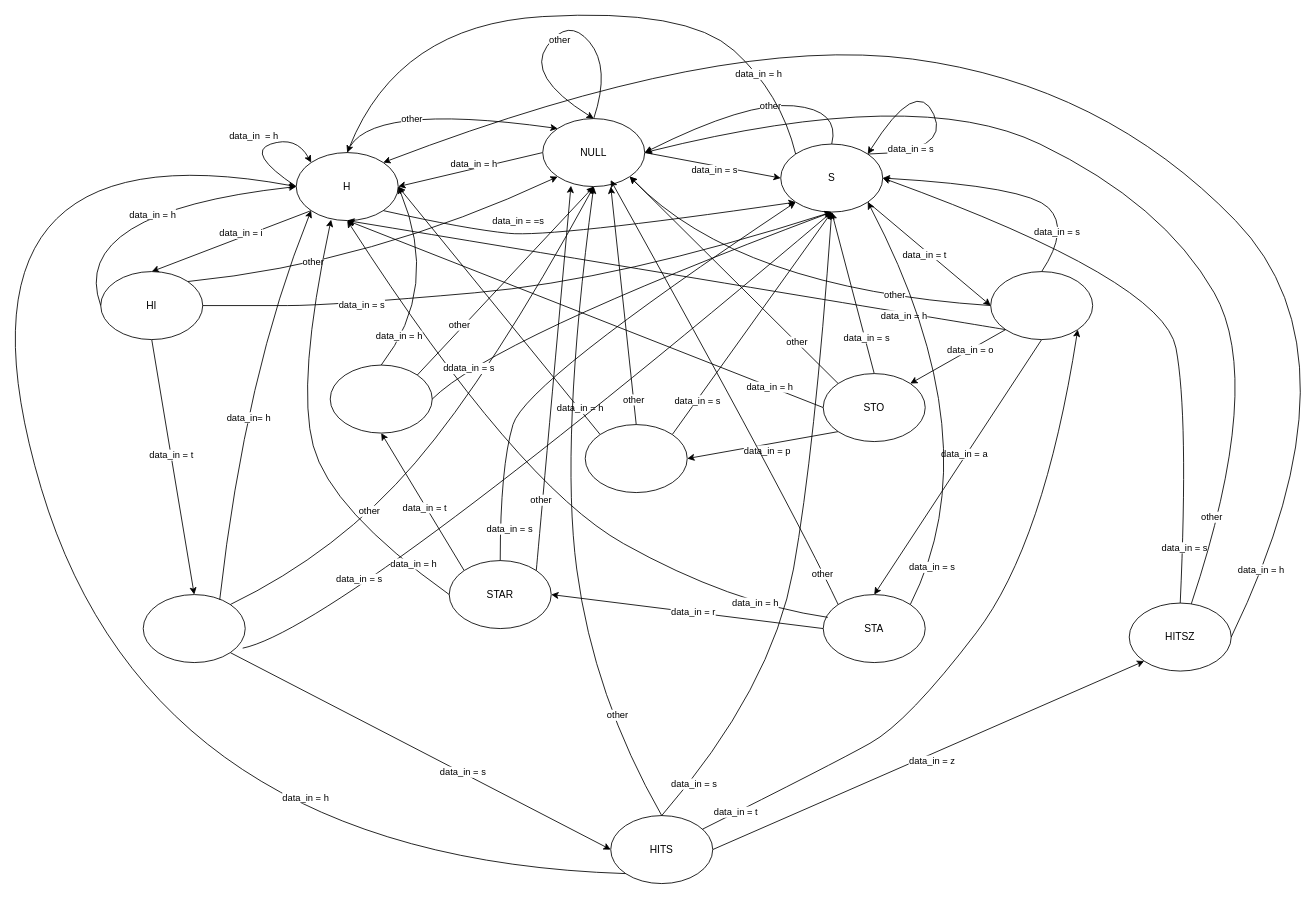
Image size: 1315x898. Some labels were removed from this diagram. Here are the shapes that lost their labels. From the top down, the centre of each, then its label:
At point 1041,305: "ST".
At point 380,398: "START".
At point 635,458: "STOP".
At point 193,628: "HIT".
